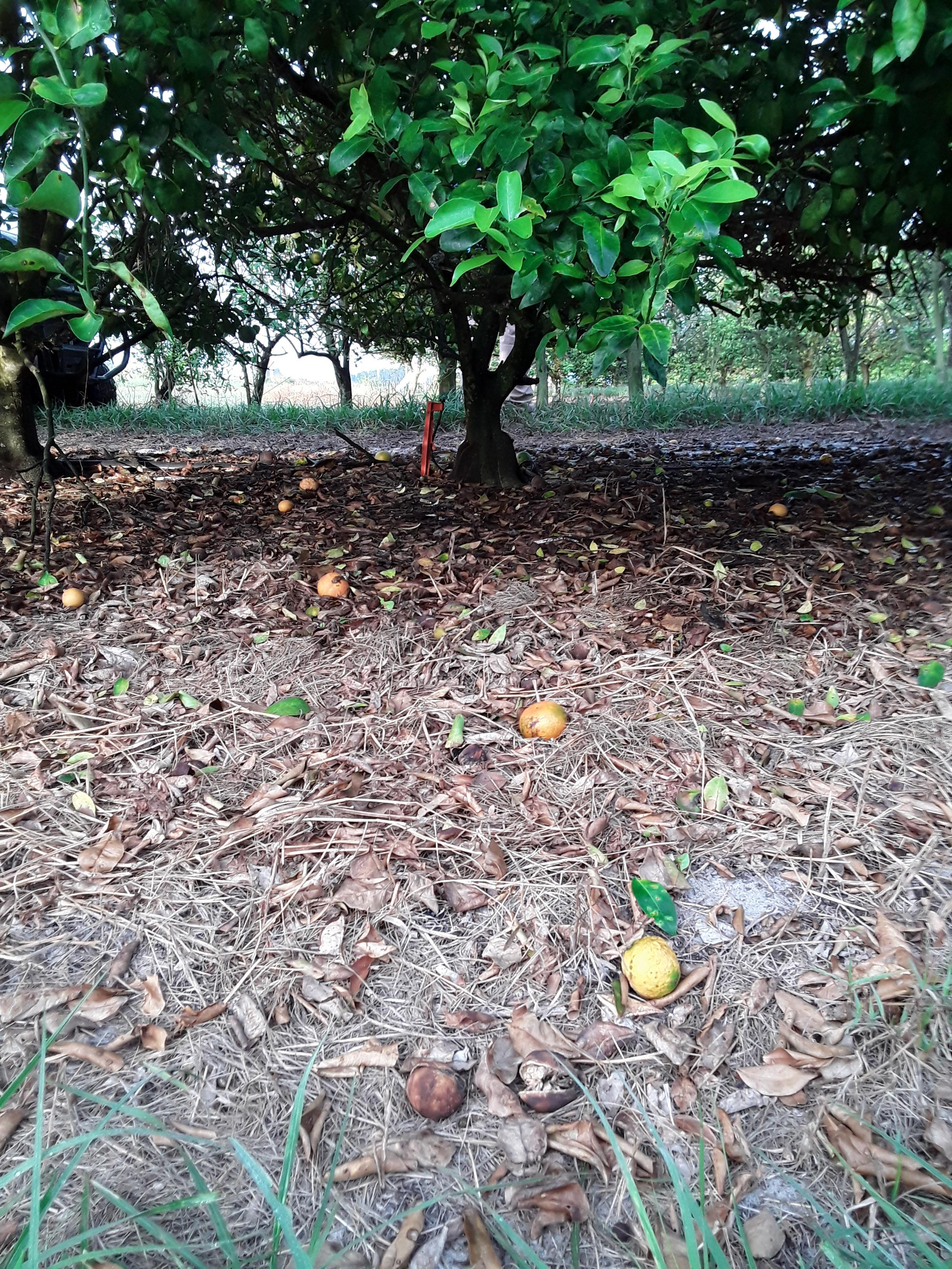fruit_on_ground: (238, 323, 255, 344), (308, 251, 323, 264)
fruit_on_tree: (512, 1052, 585, 1114), (619, 939, 690, 1001), (407, 1065, 465, 1126), (510, 704, 578, 745), (312, 570, 356, 605), (450, 744, 499, 764), (816, 444, 841, 470), (59, 591, 88, 612), (517, 671, 545, 692), (766, 503, 794, 521), (257, 449, 280, 468), (518, 674, 544, 690), (572, 644, 597, 660), (517, 448, 533, 469), (210, 509, 229, 526), (278, 498, 294, 517), (189, 548, 211, 561), (300, 477, 319, 492), (374, 452, 394, 463), (733, 446, 750, 454)
